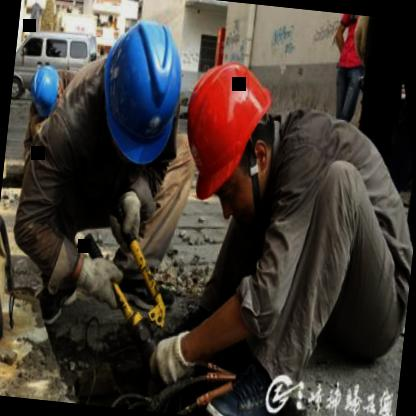helmet: (172, 48, 288, 228), (88, 7, 190, 174), (23, 59, 66, 130)
